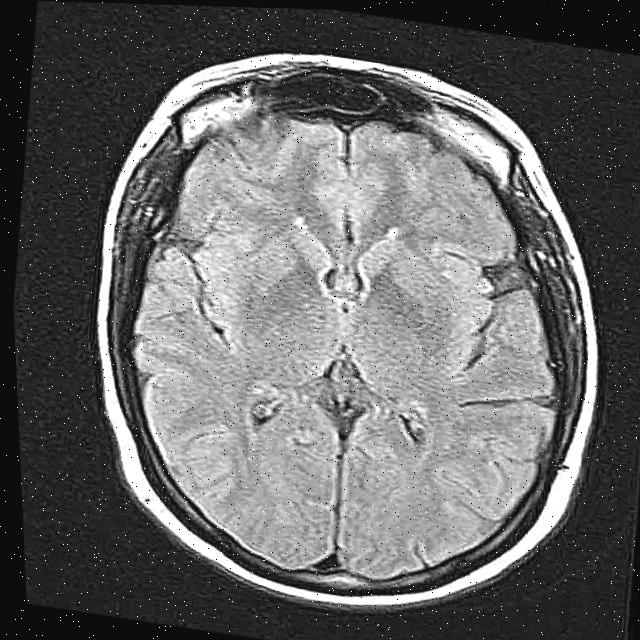NoTumor: (45, 18, 640, 640)
